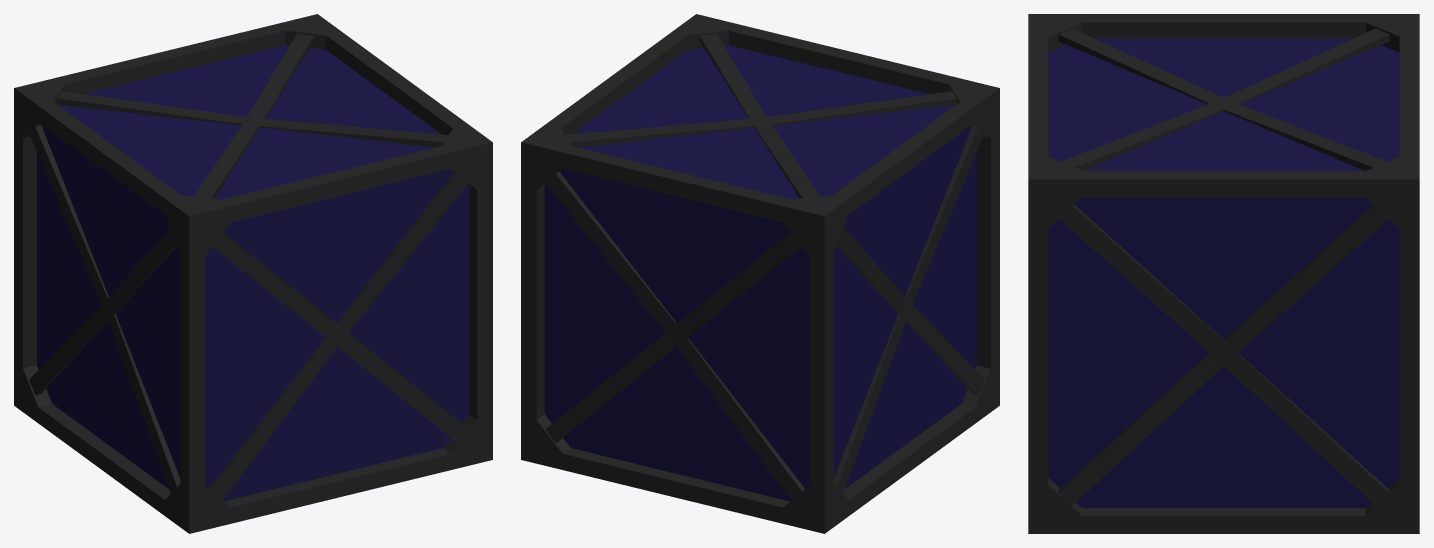
File: Food Supply.fbx
The picture shows the model from 3 angles, left to right: view 1: azimuth 30°, elevation 25°; view 2: azimuth 150°, elevation 25°; view 3: azimuth 270°, elevation 25°; orthographic projection. The views are drawn at different scales.
Parts seen in each view (by area): view 1: Cube; view 2: Cube; view 3: Cube.
Part boxes in pixels (x1,y1,x2,y2): Cube: [14, 14, 492, 533]; Cube: [521, 14, 999, 533]; Cube: [1028, 14, 1419, 533].
Bounding box in the file's own units: 400 × 400 × 400.
